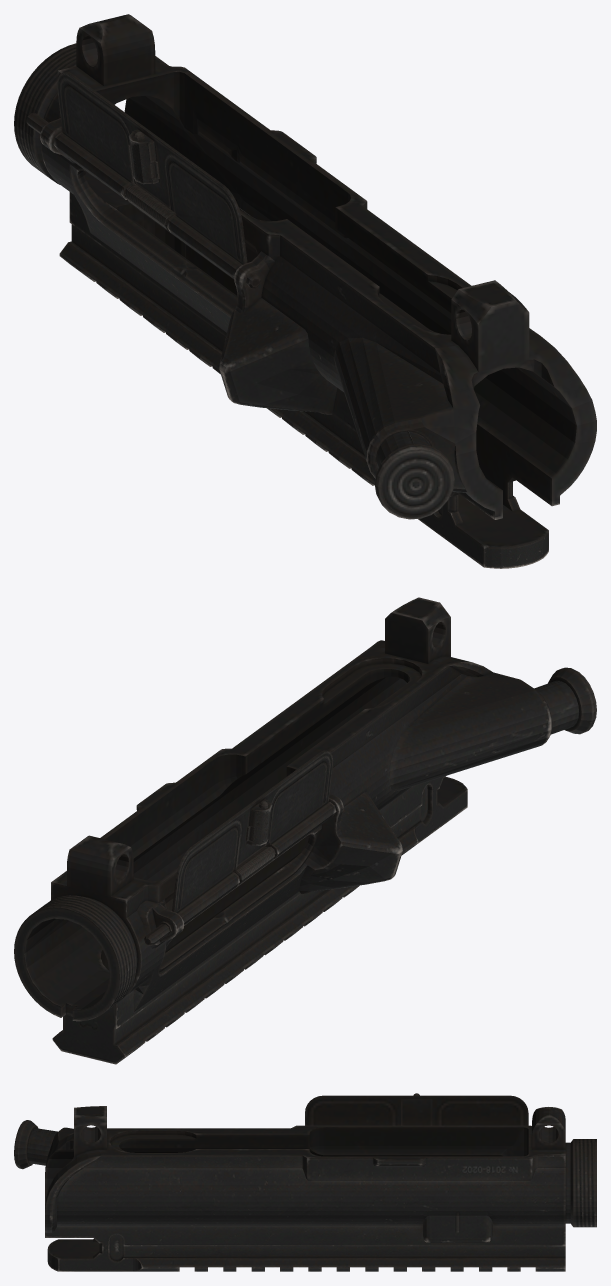
The picture shows the model from 3 angles, top to bottom: view 1: azimuth 30°, elevation 25°; view 2: azimuth 150°, elevation 25°; view 3: azimuth 270°, elevation 25°; orthographic projection. The views are drawn at different scales.
Visible parts, largest first — view 1: TW_5c0e2f26d174af02a9625114_PZ_Import; view 2: TW_5c0e2f26d174af02a9625114_PZ_Import; view 3: TW_5c0e2f26d174af02a9625114_PZ_Import.
Boxes of the visible parts, x1,y1,x2,y2 form: TW_5c0e2f26d174af02a9625114_PZ_Import: (14, 14, 596, 568); TW_5c0e2f26d174af02a9625114_PZ_Import: (14, 597, 596, 1064); TW_5c0e2f26d174af02a9625114_PZ_Import: (14, 1093, 596, 1271).
Size of the model in its own units: 0.0334 by 0.1185 by 0.0338.
Materials: 1 (1 with a texture image).
